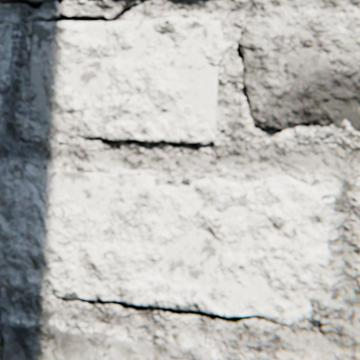brick: (0, 163, 333, 323), (29, 16, 225, 144), (238, 12, 359, 131), (1, 321, 211, 359), (0, 23, 12, 84), (28, 0, 53, 2)
crack: (41, 8, 130, 22), (0, 0, 42, 8)
